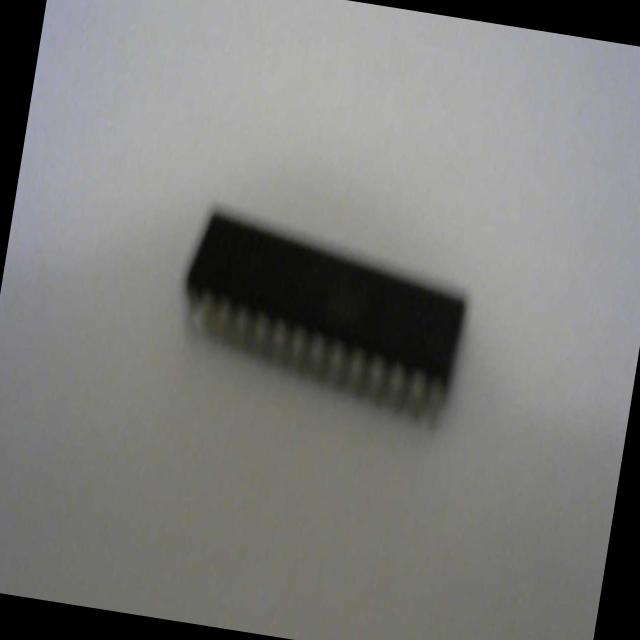atmega: (166, 197, 480, 433)
